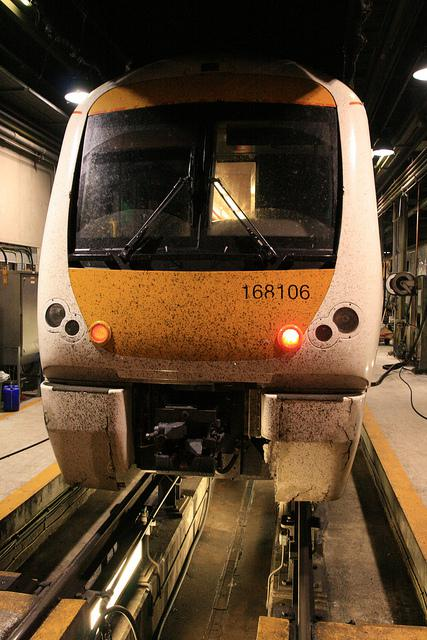Train: (39, 48, 383, 511)
